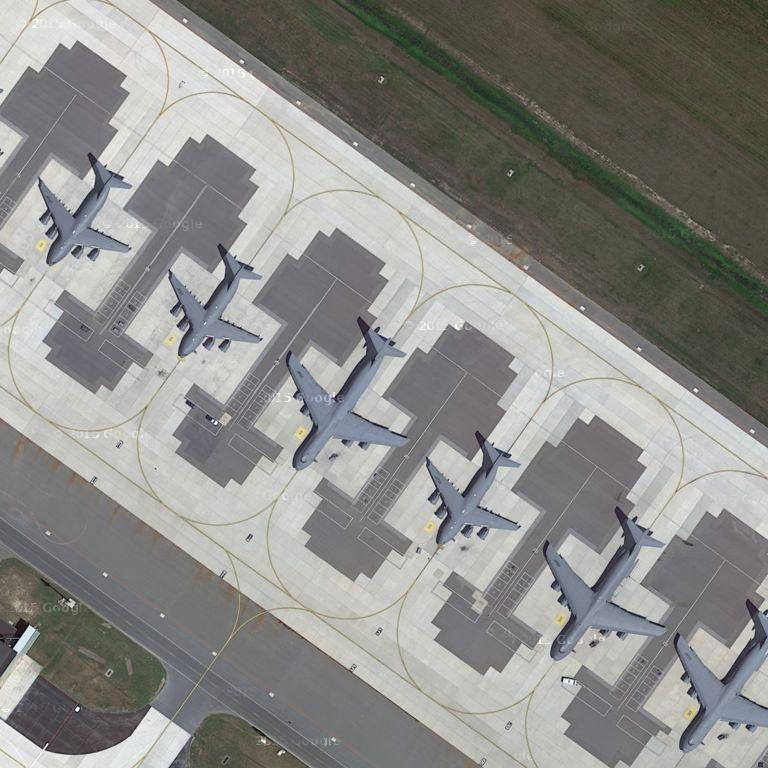C-17: (419, 433, 524, 548), (169, 248, 265, 362), (33, 162, 138, 265)
KC-135: (281, 320, 416, 475), (543, 512, 673, 664), (670, 596, 768, 755)
